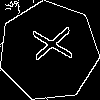X: (23, 26, 73, 64)
